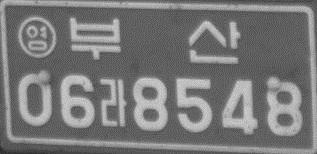0: (16, 71, 53, 128)
4: (222, 79, 256, 134)
5: (174, 76, 213, 133)
6: (59, 73, 95, 129)
8: (265, 79, 303, 138), (131, 76, 169, 131)
라: (98, 77, 128, 128)
부산_D: (68, 16, 241, 64)
영: (17, 14, 56, 59)
